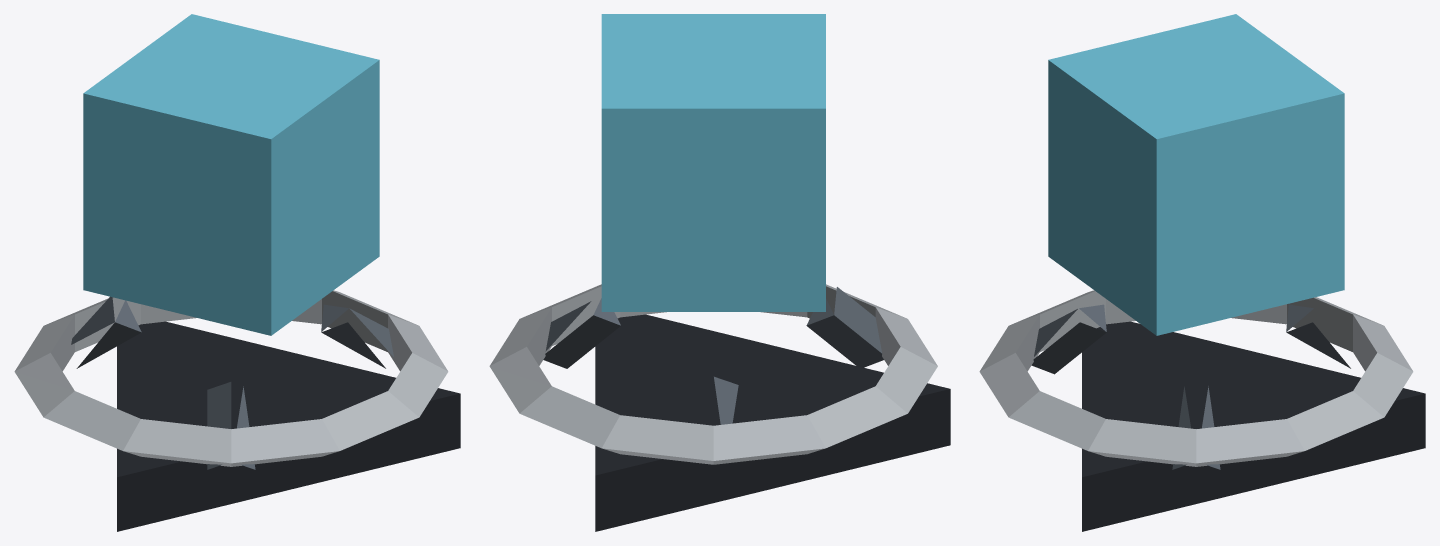
Rendered from holocron-jedi.lod.glb.
The picture shows the model from 3 angles, left to right: view 1: azimuth 30°, elevation 25°; view 2: azimuth 150°, elevation 25°; view 3: azimuth 270°, elevation 25°; orthographic projection. The views are drawn at different scales.
Visible parts, largest first — view 1: m; view 2: m; view 3: m.
Boxes of the visible parts, left/top/right/bottom form: m: left=14, top=14, right=460, bottom=531; m: left=489, top=14, right=950, bottom=531; m: left=979, top=14, right=1425, bottom=531.
Bounding box in the file's own units: 0.0883 × 0.0834 × 0.0908.
